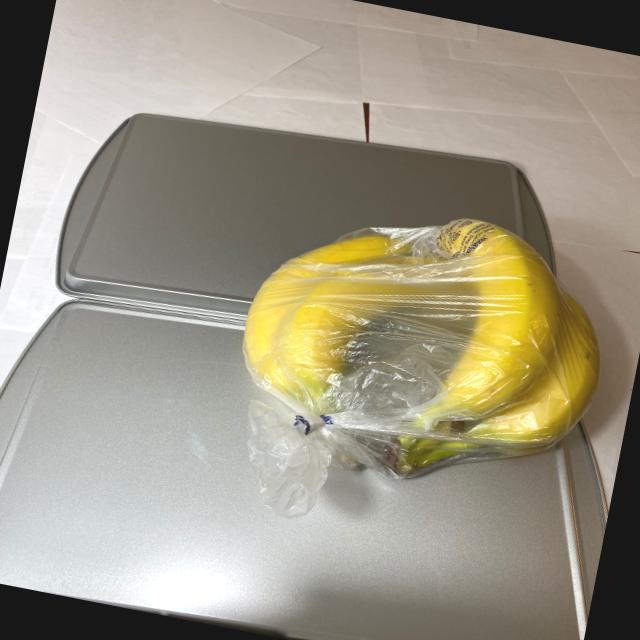banana: (216, 176, 626, 523)
